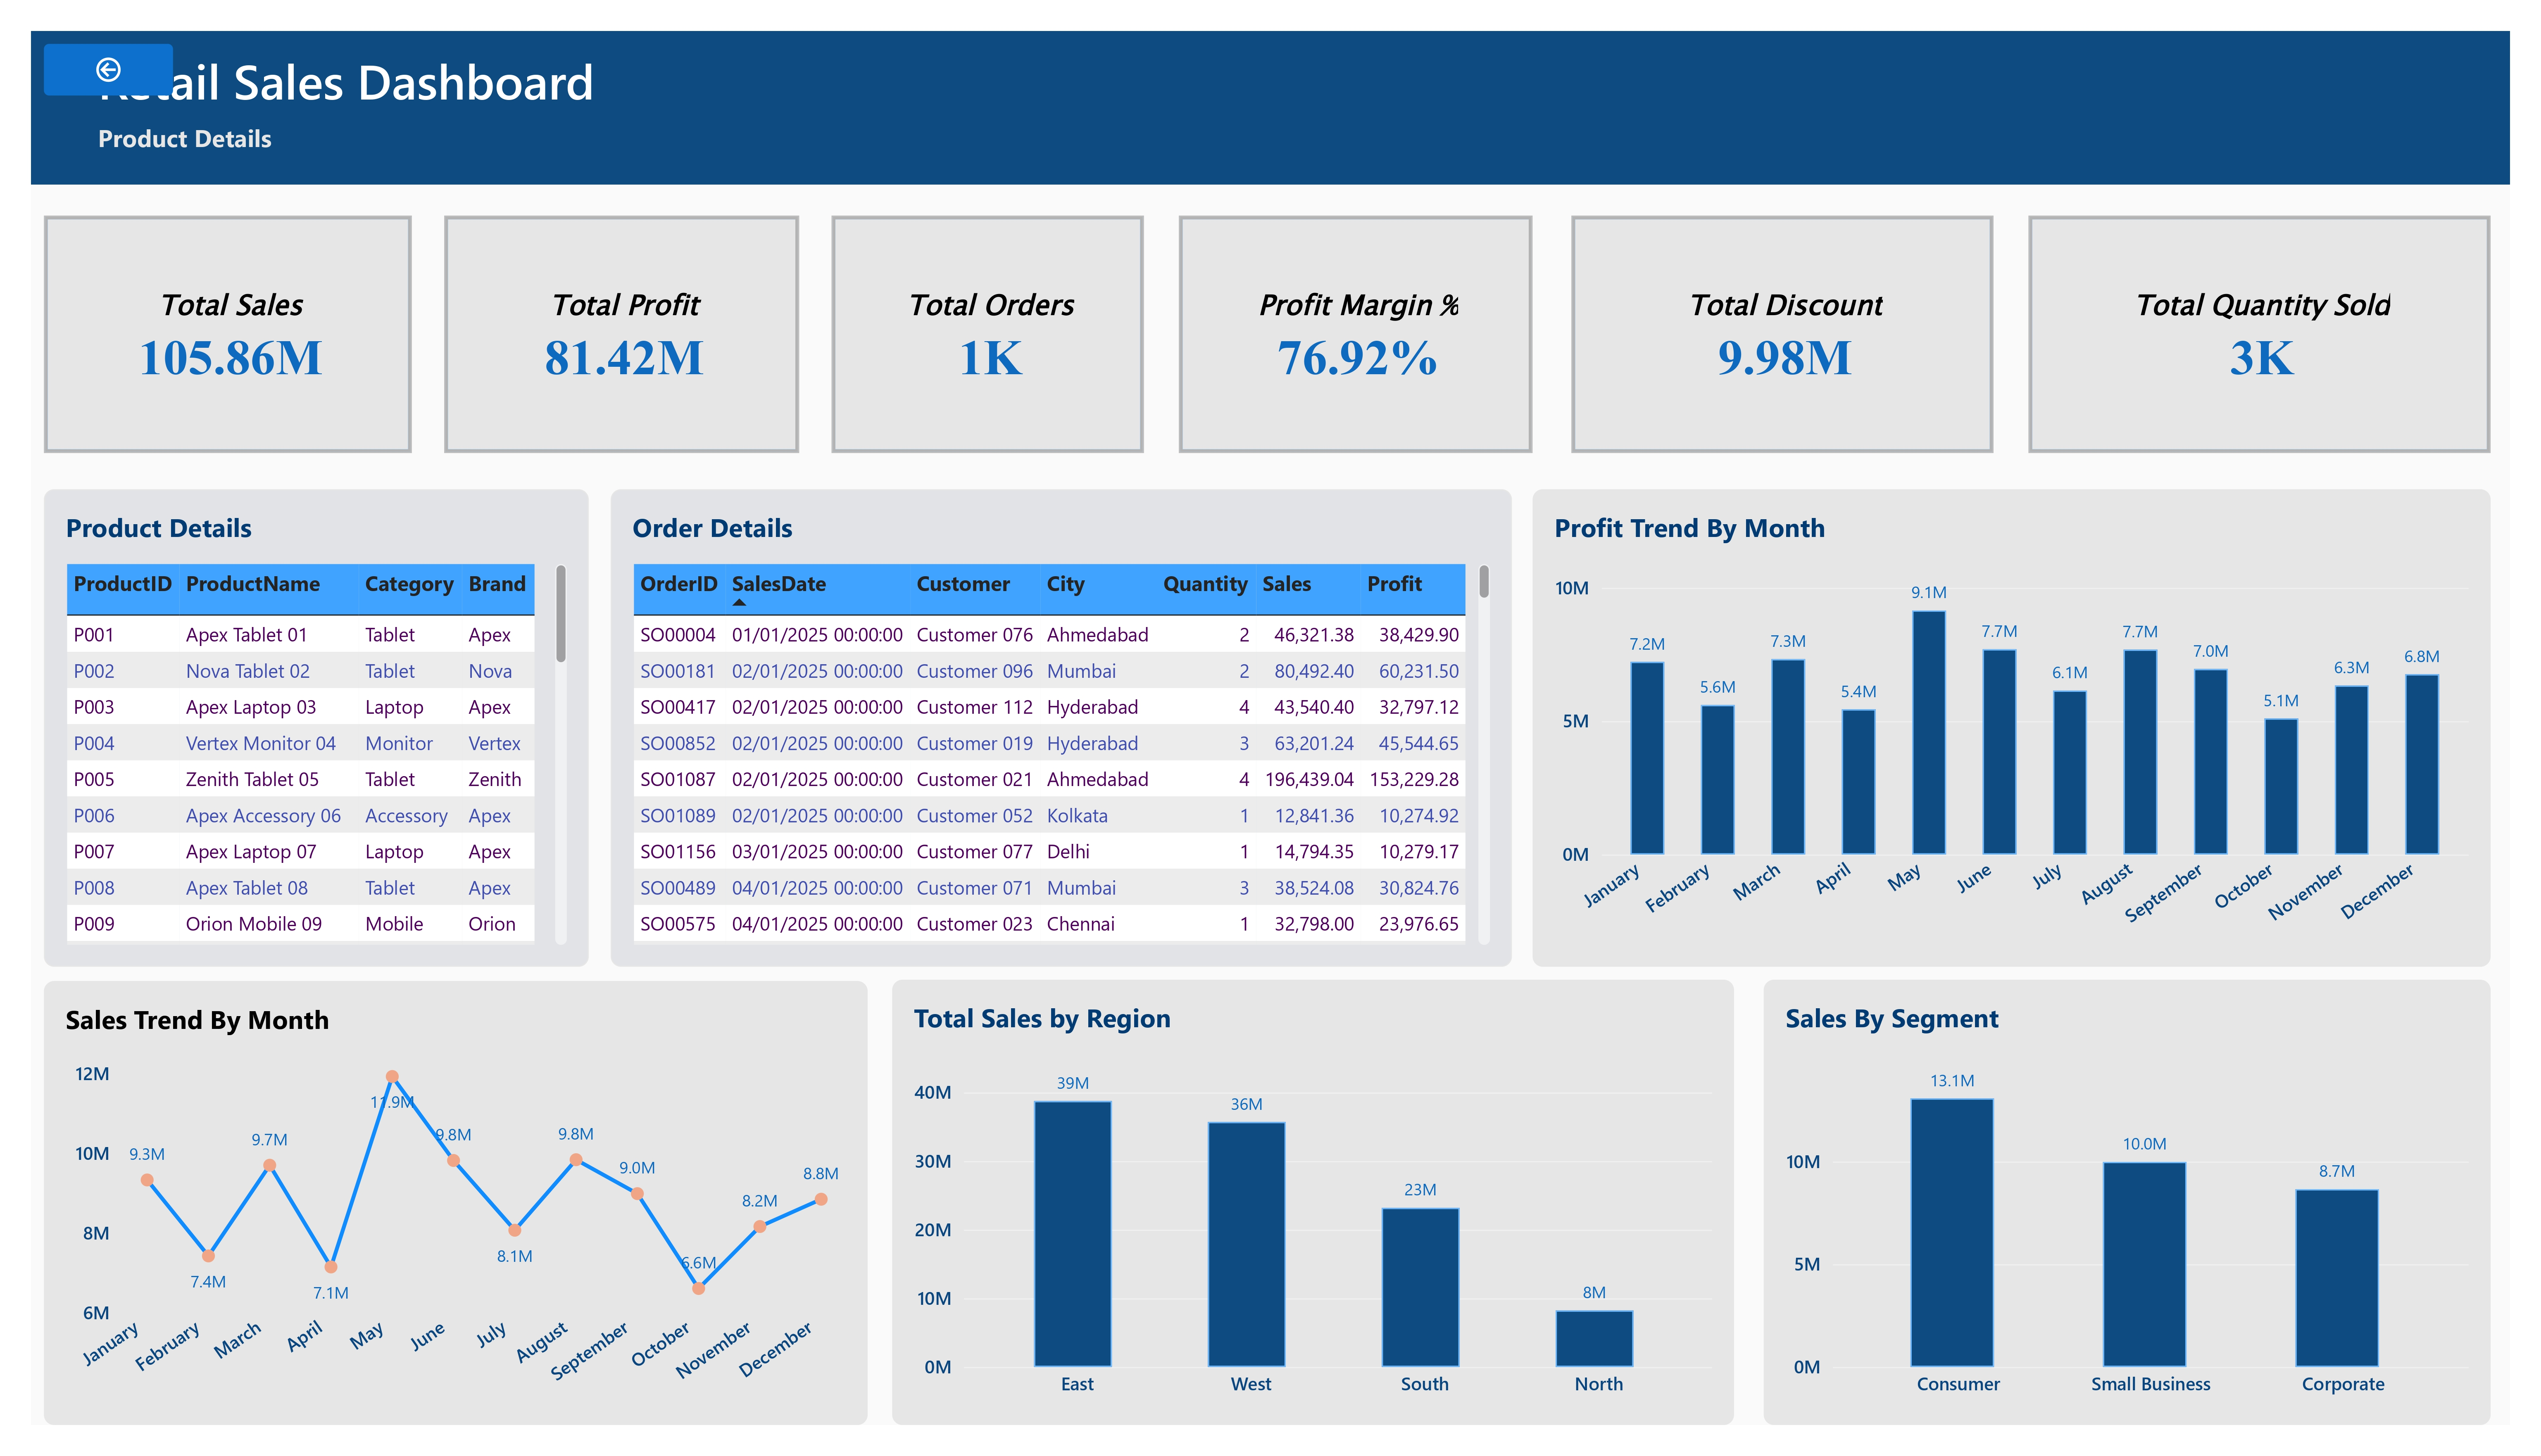

What the dashboard file says about the page in this screenshot:
{"tool":"powerbi","page":{"name":"Product Details","canvas":[1920,1080],"ordinal":5},"visuals":[{"type":"shape","box":[0,0,1919.9,119.4],"z":0},{"type":"textbox","box":[10.2,13.1,439.1,56.9],"z":1},{"type":"textbox","box":[10.2,70,439.1,32.1],"z":2},{"type":"cardVisual","fields":{"Data":[" Measures .Total Sales"]},"box":[10.2,143,284.5,183.8],"z":3},{"type":"cardVisual","fields":{"Data":[" Measures .Total Profit"]},"box":[319.5,143,275.7,183.8],"z":4},{"type":"cardVisual","fields":{"Data":[" Measures .Profit Margin %"]},"box":[888.5,143,274.3,183.8],"z":5},{"type":"cardVisual","fields":{"Data":[" Measures .Total Orders"]},"box":[620.1,143,242.2,183.8],"z":6},{"type":"cardVisual","fields":{"Data":[" Measures .Total Discount"]},"box":[1193.4,143,326.8,183.8],"z":7},{"type":"cardVisual","fields":{"Data":[" Measures .Total Quantity Sold"]},"box":[1546.5,143,358.9,183.8],"z":8},{"type":"tableEx","title":"Product Details","fields":{"Values":["Products.ProductID","Products.ProductName","Products.Category","Products.Brand"]},"box":[10.2,354.5,421.6,370.6],"z":10},{"type":"tableEx","title":"Order Details","fields":{"Values":["Sales.OrderID","Sales.SalesDate","Customers.CustomerName","Customers.City","Sum(Sales.Quantity)"," Measures .Total Sales"," Measures .Total Profit"]},"box":[449.4,354.5,697.4,370.6],"z":11},{"type":"lineChart","title":"Sales Trend By Month","fields":{"Category":["Calendar.MonthName"],"Y":[" Measures .Total Sales"]},"box":[10,736,638,344],"z":12},{"type":"clusteredColumnChart","title":"Profit Trend By Month","fields":{"Category":["Calendar.MonthName"],"Y":[" Measures .Total Profit"]},"box":[1162.8,354.5,742.6,370.6],"z":13},{"type":"clusteredColumnChart","fields":{"Category":["Employees.Region"],"Y":[" Measures .Total Sales"]},"box":[666.7,735.3,652.2,344.3],"z":14},{"type":"clusteredColumnChart","title":"Sales By Segment","fields":{"Category":["Customers.Segment"],"Y":[" Measures .Total Sales"]},"box":[1342.2,735.3,563.2,344.3],"z":15},{"type":"actionButton","box":[10,10,100,40],"z":16}]}

Visuals, with their boxes on the page's 1920x1080 design canvas (x1, y1, x2, y2). These are canvas units, not pixel positions in the 2541x1456 screenshot, which may show the page scaled, cropped or inside an application window:
shape: BBox(0, 0, 1920, 119)
textbox: BBox(10, 13, 449, 70)
textbox: BBox(10, 70, 449, 102)
cardVisual -  Measures .Total Sales: BBox(10, 143, 295, 327)
cardVisual -  Measures .Total Profit: BBox(320, 143, 595, 327)
cardVisual -  Measures .Profit Margin %: BBox(888, 143, 1163, 327)
cardVisual -  Measures .Total Orders: BBox(620, 143, 862, 327)
cardVisual -  Measures .Total Discount: BBox(1193, 143, 1520, 327)
cardVisual -  Measures .Total Quantity Sold: BBox(1546, 143, 1905, 327)
"Product Details" tableEx: BBox(10, 354, 432, 725)
"Order Details" tableEx: BBox(449, 354, 1147, 725)
"Sales Trend By Month" lineChart: BBox(10, 736, 648, 1080)
"Profit Trend By Month" clusteredColumnChart: BBox(1163, 354, 1905, 725)
clusteredColumnChart - Employees.Region x  Measures .Total Sales: BBox(667, 735, 1319, 1080)
"Sales By Segment" clusteredColumnChart: BBox(1342, 735, 1905, 1080)
actionButton: BBox(10, 10, 110, 50)
